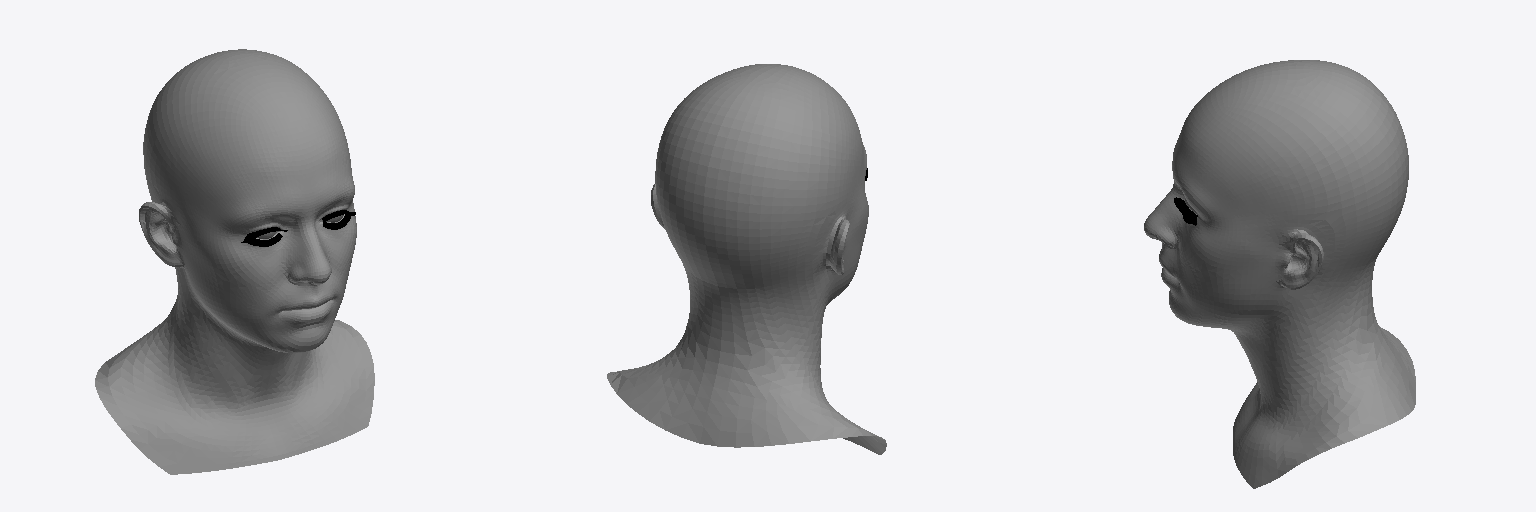
The model's file is identity079.obj.
The picture shows the model from 3 angles: view 1: azimuth 30°, elevation 25°; view 2: azimuth 150°, elevation 25°; view 3: azimuth 270°, elevation 25°; orthographic projection.
Size of the model in its own units: 24.83 by 33.82 by 22.34.